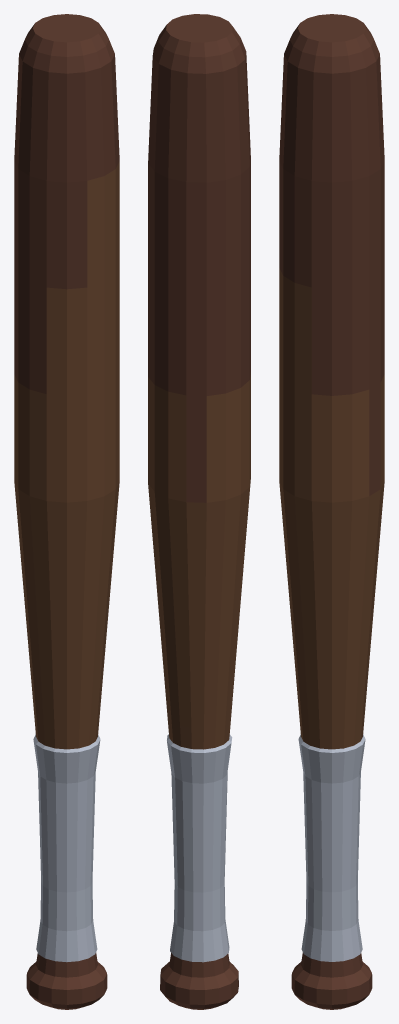
Rendered from wooden_bat.glb.
3 renders of one model, left to right at view 1: azimuth 90°, elevation 25°; view 2: azimuth 210°, elevation 25°; view 3: azimuth 270°, elevation 25°, orthographic.
Parts seen in each view (by area): view 1: BatHandle.001; view 2: BatHandle.001; view 3: BatHandle.001.
Part boxes in pixels (bbox=[...]): BatHandle.001: bbox=[14, 14, 119, 1009]; BatHandle.001: bbox=[148, 14, 250, 1009]; BatHandle.001: bbox=[279, 14, 384, 1009].
Size of the model in its own units: 0.0963 by 1 by 0.0982.
